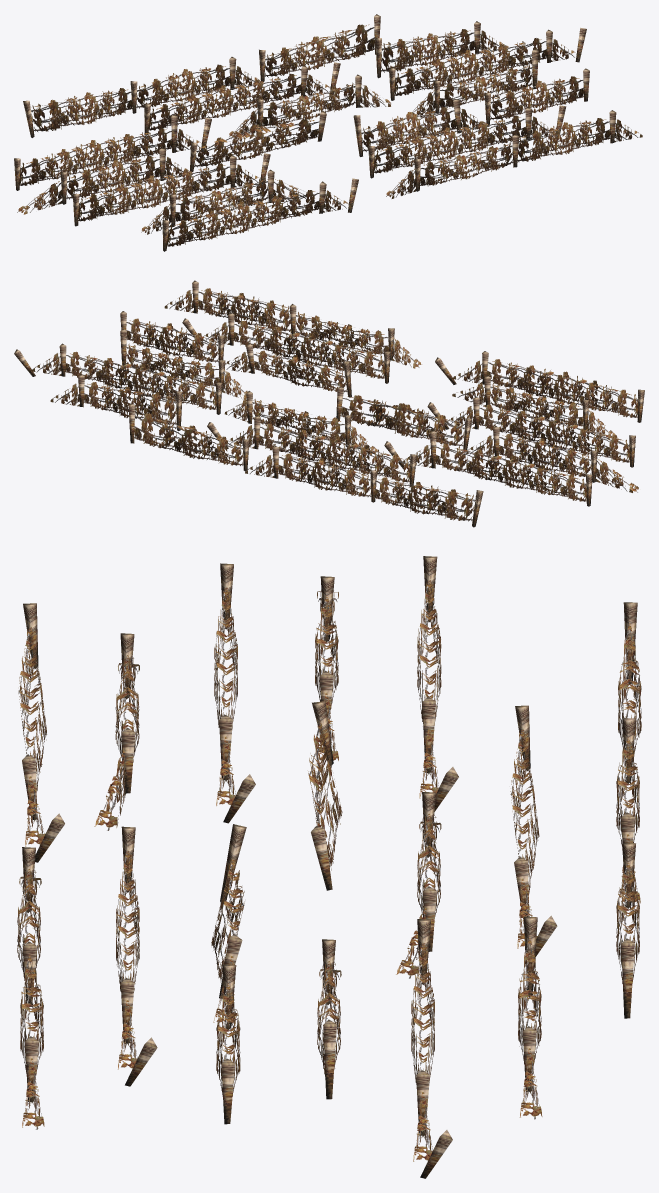
Rendered from westfallvineyard01.obj.
3 renders of one model, top to bottom at view 1: azimuth 30°, elevation 25°; view 2: azimuth 150°, elevation 25°; view 3: azimuth 270°, elevation 25°, orthographic. The views are drawn at different scales.
Size of the model in its own units: 38.24 by 2.84 by 17.38.
Materials: 1 (1 with a texture image).
